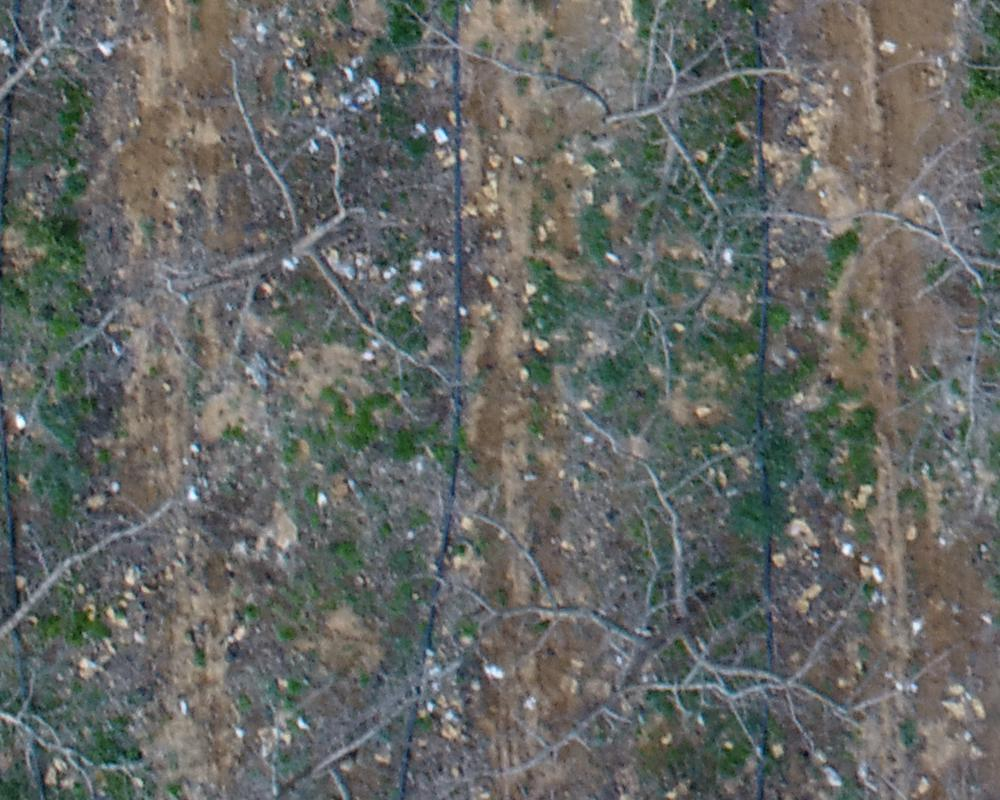apple: (423, 423, 937, 778), (405, 10, 834, 401), (161, 54, 457, 411), (732, 135, 990, 429)
